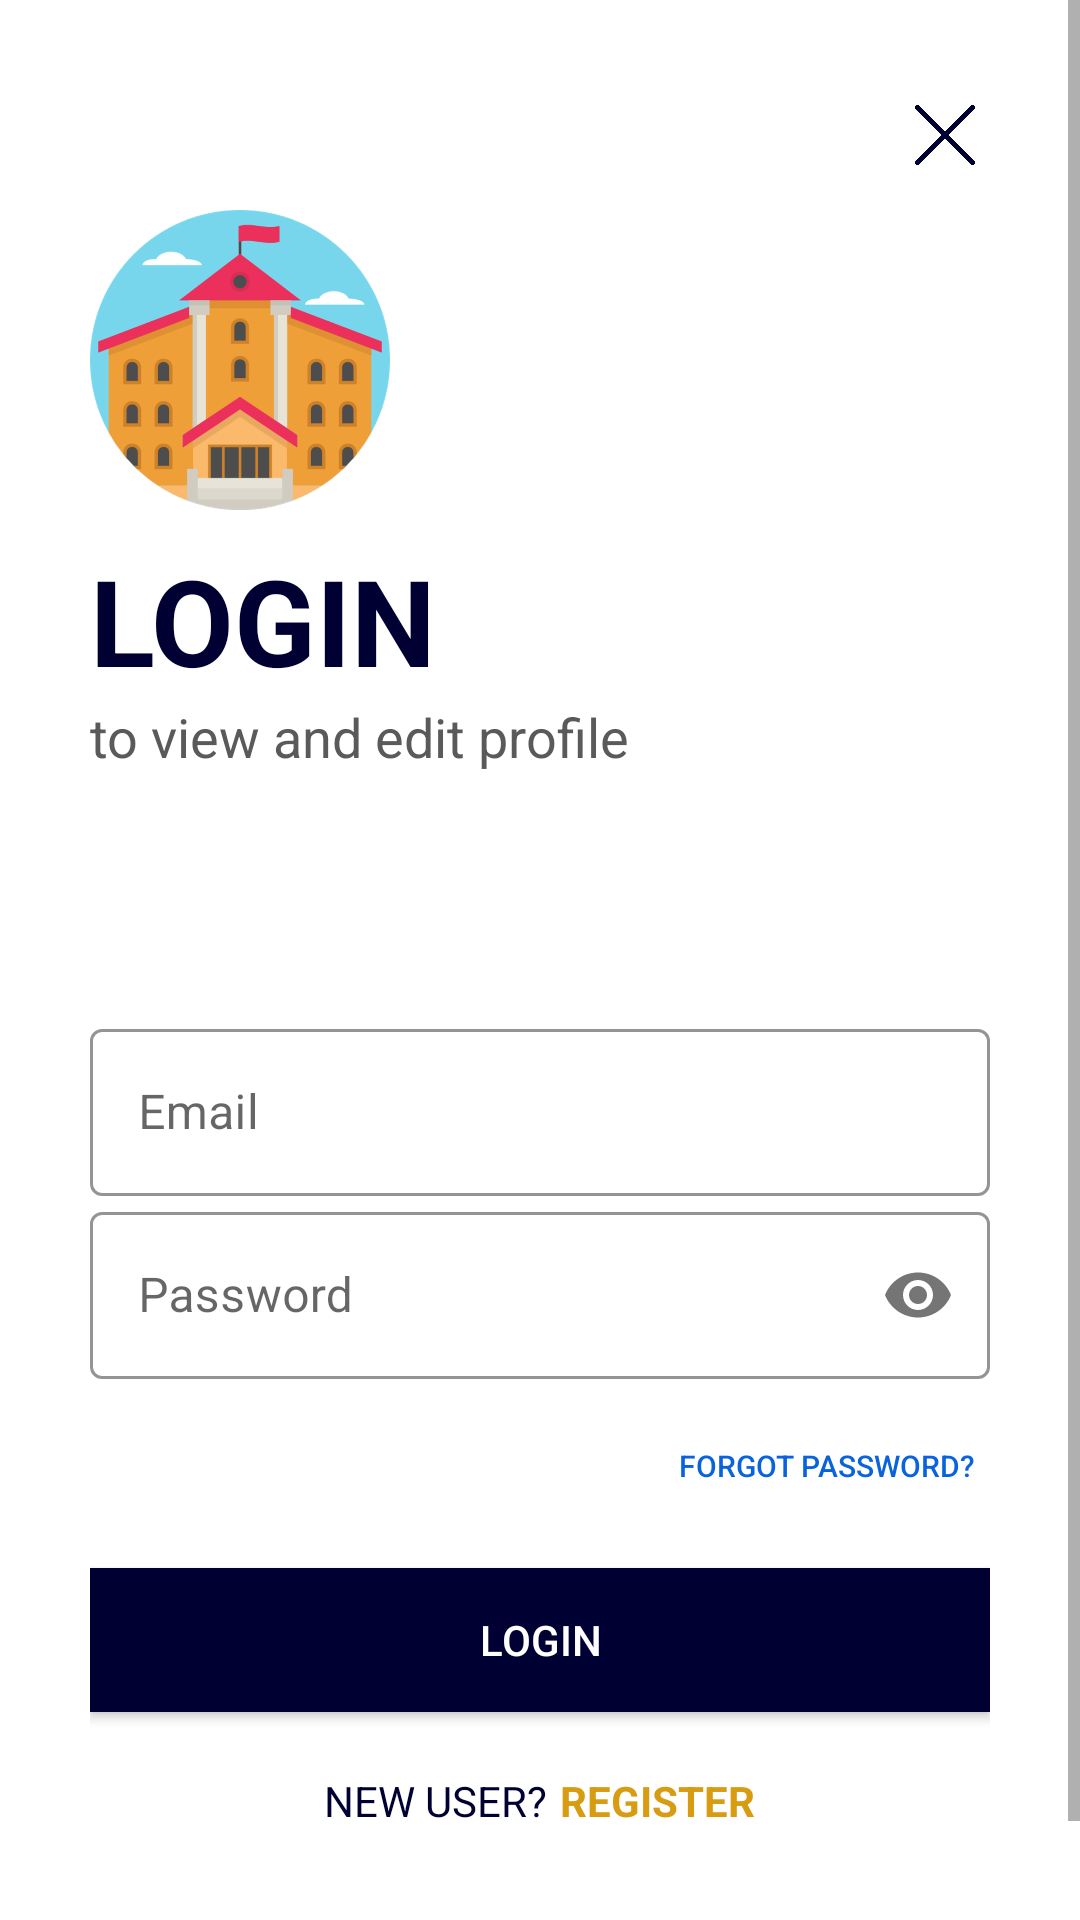

Icon bounding boxes for this 1080px x 1920px phone screenshot, format (x1, y1, x2, y2):
cancel: (915, 105, 975, 165)
school: (90, 210, 390, 510)
